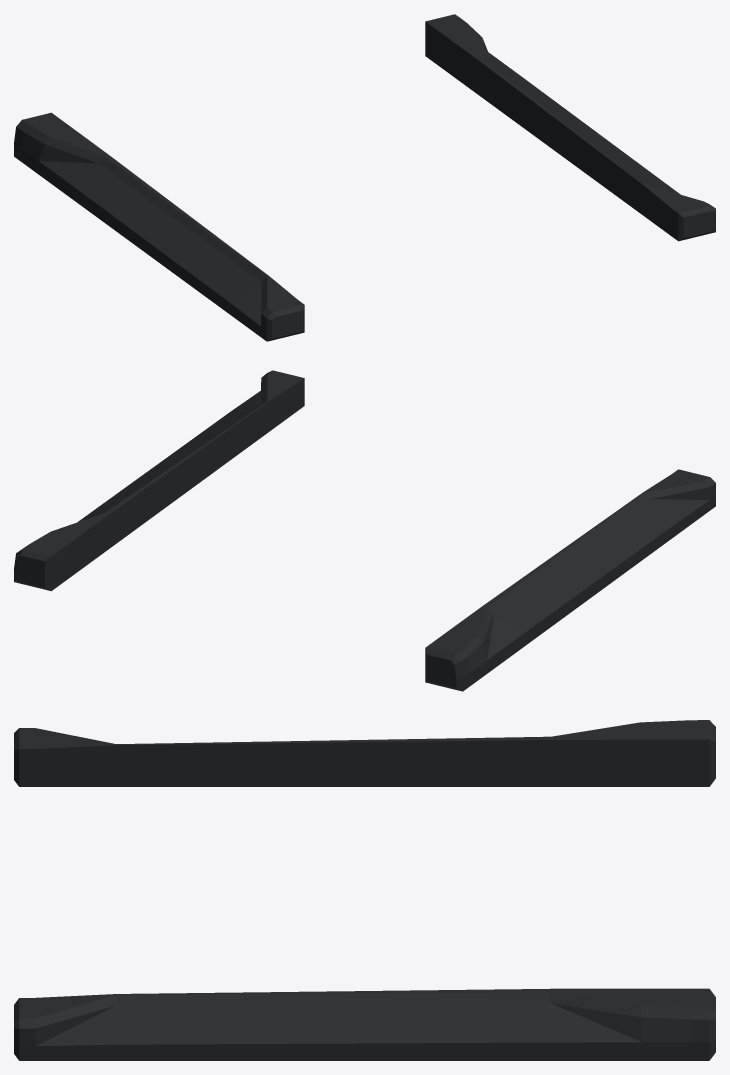
File: SM_Veh_Touring_01_Side_Skirts_01.fbx
3 renders of one model, top to bottom at view 1: azimuth 30°, elevation 25°; view 2: azimuth 150°, elevation 25°; view 3: azimuth 270°, elevation 25°, orthographic. The views are drawn at different scales.
Visible parts, largest first — view 1: SM_Veh_Touring_01_Side_Skirts_01; view 2: SM_Veh_Touring_01_Side_Skirts_01; view 3: SM_Veh_Touring_01_Side_Skirts_01.
Part boxes in pixels (left/top/right/bottom): SM_Veh_Touring_01_Side_Skirts_01: left=14, top=14, right=715, bottom=341; SM_Veh_Touring_01_Side_Skirts_01: left=14, top=370, right=715, bottom=691; SM_Veh_Touring_01_Side_Skirts_01: left=14, top=720, right=715, bottom=1060.
Bounding box in the file's own units: 210 × 15.53 × 208.
